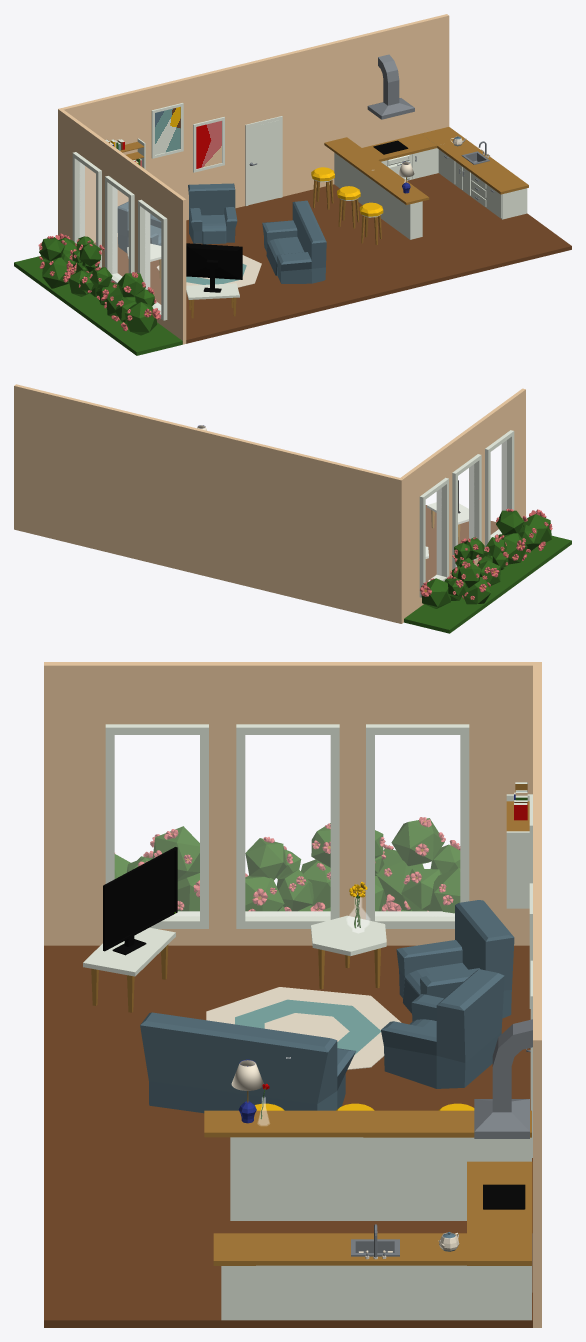
Rendered from Living Room.fbx.
3 views of the same model, one above another, from view 1: azimuth 30°, elevation 25°; view 2: azimuth 150°, elevation 25°; view 3: azimuth 270°, elevation 25° (orthographic). The views are drawn at different scales.
Parts seen in each view (by area): view 1: Wall, Floor, Wall-window, Window-frame, Separator, Counter-sink, Couch, Window-glass, Floor.001, Door, Chair, Bush.001 (+15 smaller); view 2: Wall, Wall-window, Window-frame, Window-glass, Floor.001, Bush.001, Bush.003, Bush.002, Floor, Bush, Table-Square; view 3: Floor, Wall-window, Window-glass, Separator, Counter-sink, Window-frame, Couch, Chair, Rug, Chair.001, Bush.003, Wall (+11 smaller).
Part boxes in pixels (box(x1,y1,x2,y2)): Wall: box(58, 14, 449, 242); Floor: box(93, 173, 571, 343); Wall-window: box(60, 110, 186, 344); Window-frame: box(72, 152, 167, 320); Separator: box(324, 137, 429, 239); Counter-sink: box(437, 139, 528, 219); Couch: box(262, 200, 326, 283); Window-glass: box(80, 163, 160, 308); Floor.001: box(14, 256, 182, 355); Door: box(245, 116, 282, 205); Chair: box(188, 183, 237, 244); Bush.001: box(101, 272, 161, 335); Wall: box(14, 384, 403, 623); Wall-window: box(400, 388, 525, 618); Window-frame: box(419, 430, 514, 597); Window-glass: box(426, 441, 506, 581); Floor.001: box(404, 535, 571, 633); Bush.001: box(494, 508, 552, 564); Bush.003: box(420, 561, 490, 608); Bush.002: box(477, 537, 508, 586); Floor: box(425, 505, 498, 581); Bush: box(450, 537, 484, 578); Table-Square: box(427, 502, 468, 542); Floor: box(44, 945, 532, 1327); Wall-window: box(44, 662, 532, 945); Window-glass: box(115, 735, 459, 916); Separator: box(204, 1110, 531, 1220); Counter-sink: box(213, 1224, 466, 1320); Window-frame: box(105, 724, 469, 928); Couch: box(140, 1012, 355, 1113); Chair: box(381, 969, 504, 1088); Rug: box(206, 987, 401, 1069); Chair.001: box(396, 900, 514, 1018); Bush.003: box(375, 817, 460, 913); Wall: box(533, 662, 541, 1327).
Size of the model in its own units: 2492 by 778 by 1221.
